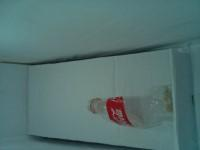bottle: (87, 84, 173, 129)
